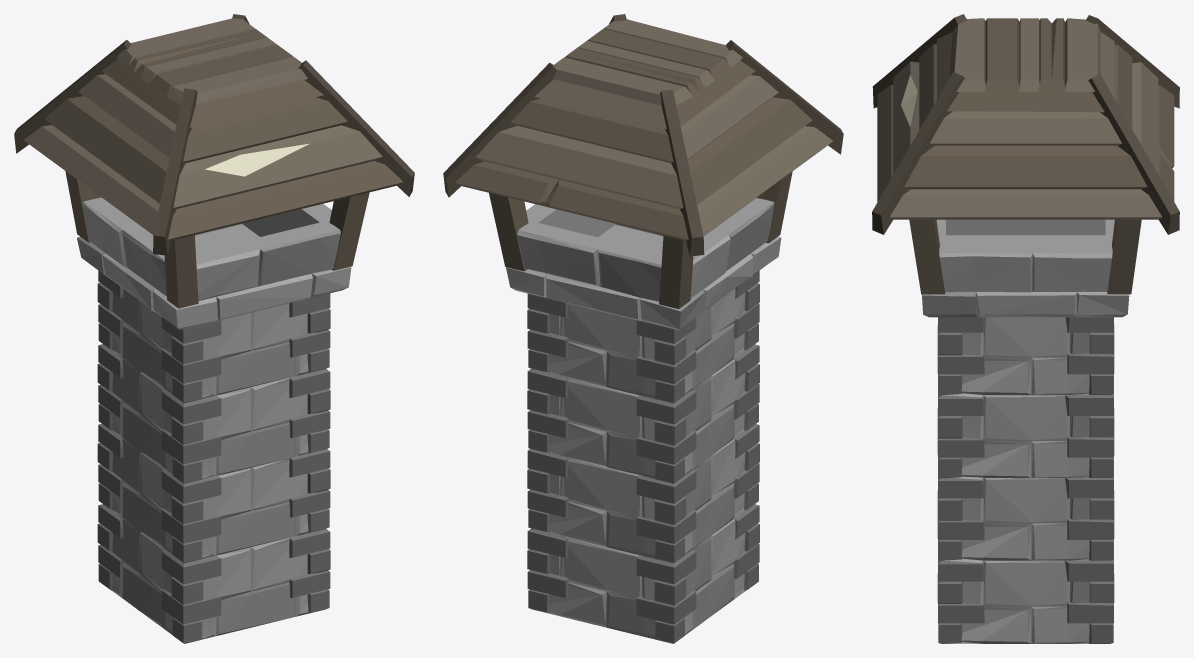
File: _TOWER_05_FULL.fbx
The picture shows the model from 3 angles, left to right: view 1: azimuth 30°, elevation 25°; view 2: azimuth 150°, elevation 25°; view 3: azimuth 270°, elevation 25°; orthographic projection. The views are drawn at different scales.
Visible parts, largest first — view 1: TOWER_5_UP_01, TOWER_5_BLOCK_01, TOWER_5_BLOCK_03, TOWER_5_BLOCK_02, TOWER_5_BLOCK_04; view 2: TOWER_5_UP_01, TOWER_5_BLOCK_01, TOWER_5_BLOCK_03, TOWER_5_BLOCK_02, TOWER_5_BLOCK_04; view 3: TOWER_5_UP_01, TOWER_5_BLOCK_01, TOWER_5_BLOCK_02, TOWER_5_BLOCK_03, TOWER_5_BLOCK_04.
Boxes of the visible parts, x1=… form: TOWER_5_UP_01: x1=14, y1=14, x2=414, y2=329; TOWER_5_BLOCK_01: x1=97, y1=504, x2=330, y2=643; TOWER_5_BLOCK_03: x1=97, y1=344, x2=330, y2=483; TOWER_5_BLOCK_02: x1=97, y1=424, x2=330, y2=563; TOWER_5_BLOCK_04: x1=97, y1=270, x2=330, y2=403; TOWER_5_UP_01: x1=443, y1=14, x2=843, y2=329; TOWER_5_BLOCK_01: x1=527, y1=504, x2=759, y2=643; TOWER_5_BLOCK_03: x1=527, y1=344, x2=759, y2=483; TOWER_5_BLOCK_02: x1=527, y1=424, x2=759, y2=563; TOWER_5_BLOCK_04: x1=527, y1=270, x2=759, y2=403; TOWER_5_UP_01: x1=872, y1=14, x2=1179, y2=317; TOWER_5_BLOCK_01: x1=937, y1=520, x2=1114, y2=643; TOWER_5_BLOCK_02: x1=937, y1=437, x2=1114, y2=560; TOWER_5_BLOCK_03: x1=937, y1=354, x2=1114, y2=478; TOWER_5_BLOCK_04: x1=937, y1=317, x2=1114, y2=394.
Bounding box in the file's own units: 473 × 943 × 466.
